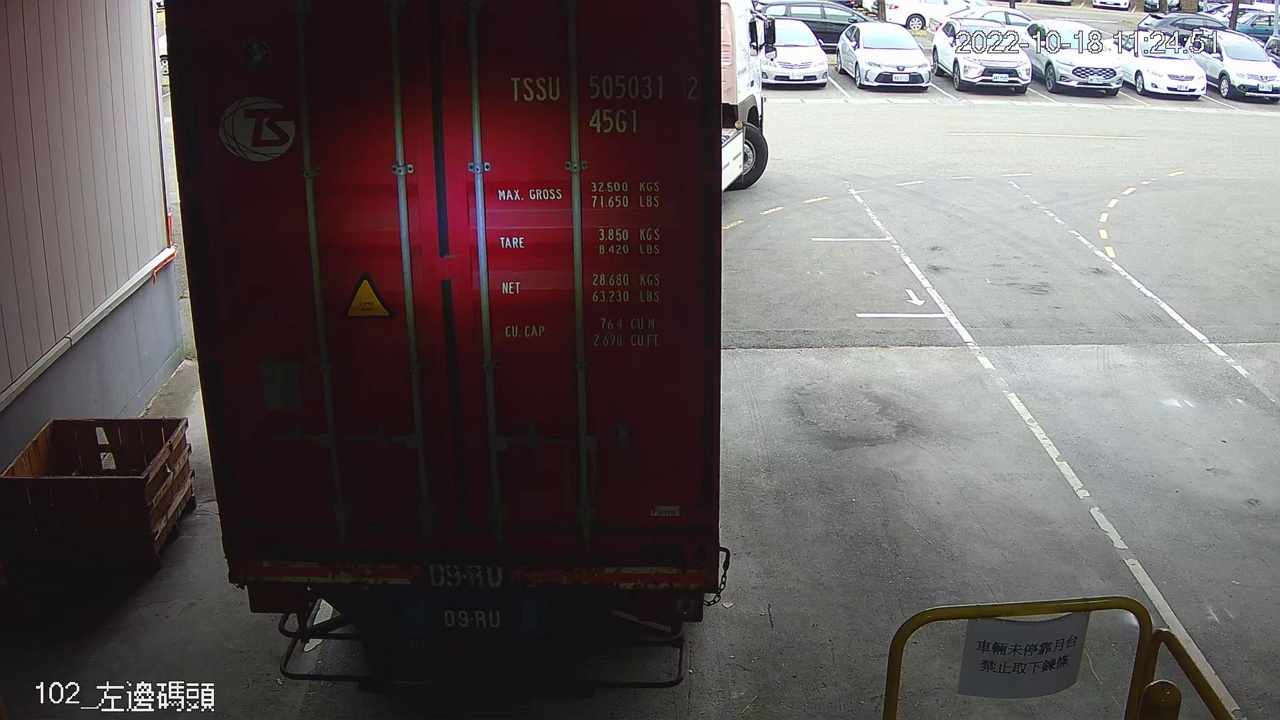container: (499, 62, 709, 142)
